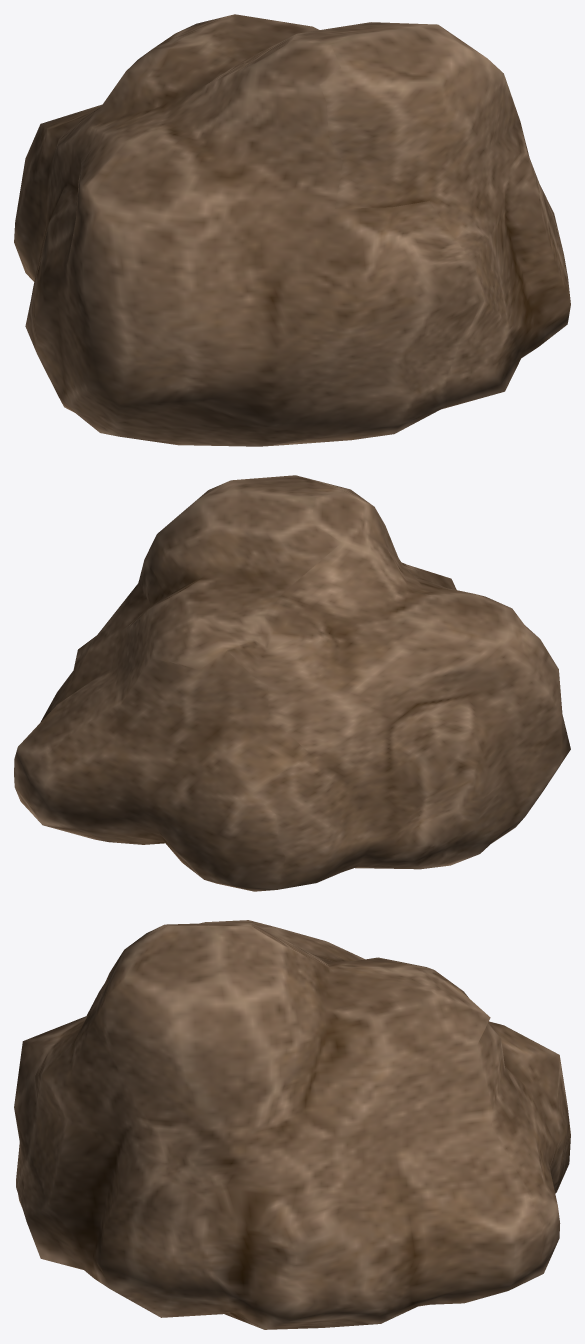
The model's file is sb_obj_nature006_Stone01a.fbx.
3 views of the same model, one above another, from view 1: azimuth 30°, elevation 25°; view 2: azimuth 150°, elevation 25°; view 3: azimuth 270°, elevation 25° (orthographic). The views are drawn at different scales.
Visible parts, largest first — view 1: sb_obj_nature006_Stone01a; view 2: sb_obj_nature006_Stone01a; view 3: sb_obj_nature006_Stone01a.
Boxes of the visible parts, x1=… form: sb_obj_nature006_Stone01a: x1=14, y1=14, x2=570, y2=446; sb_obj_nature006_Stone01a: x1=14, y1=475, x2=570, y2=891; sb_obj_nature006_Stone01a: x1=14, y1=920, x2=570, y2=1329.
Bounding box in the file's own units: 1.03 × 0.6464 × 0.997.
